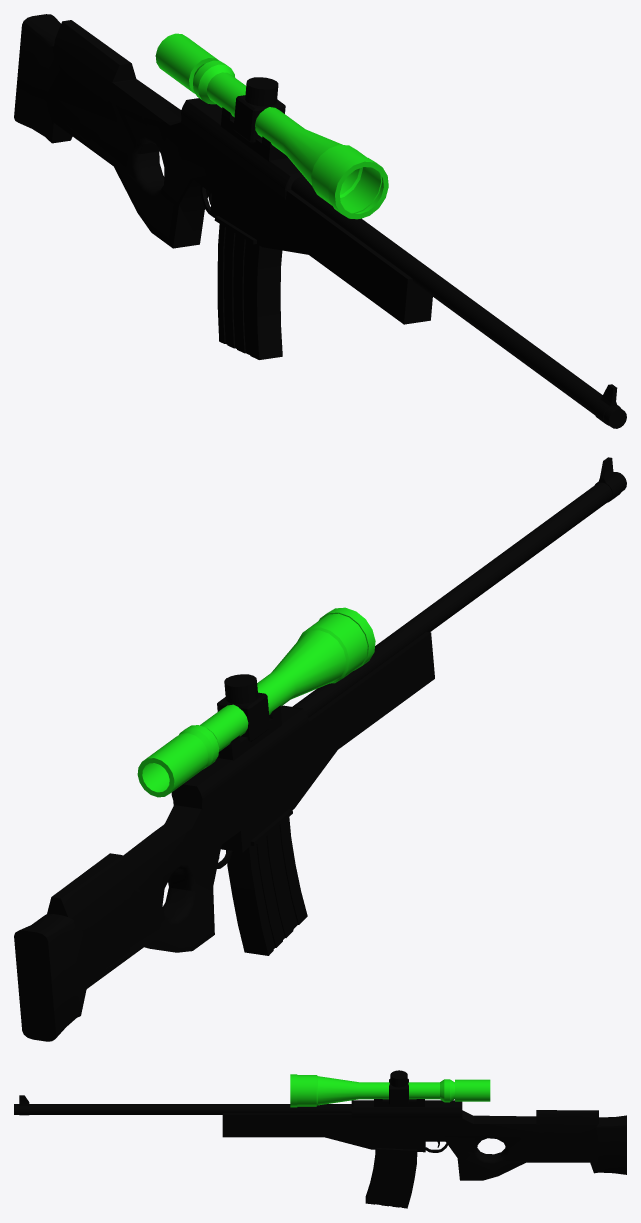
File: SniperRifle.fbx
3 views of the same model, one above another, from view 1: azimuth 30°, elevation 25°; view 2: azimuth 150°, elevation 25°; view 3: azimuth 270°, elevation 25° (orthographic). The views are drawn at different scales.
Visible parts, largest first — view 1: Sniper.002; view 2: Sniper.002; view 3: Sniper.002.
Part boxes in pixels (x1,y1,x2,y2): Sniper.002: (14, 14, 626, 428); Sniper.002: (14, 457, 626, 1041); Sniper.002: (14, 1070, 626, 1208).
Size of the model in its own units: 23.32 by 97.14 by 392.
